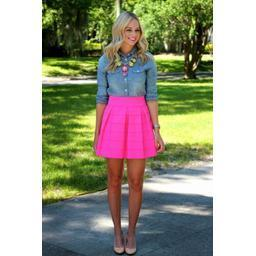shirt: (96, 46, 158, 104)
skirt: (94, 96, 159, 159)
